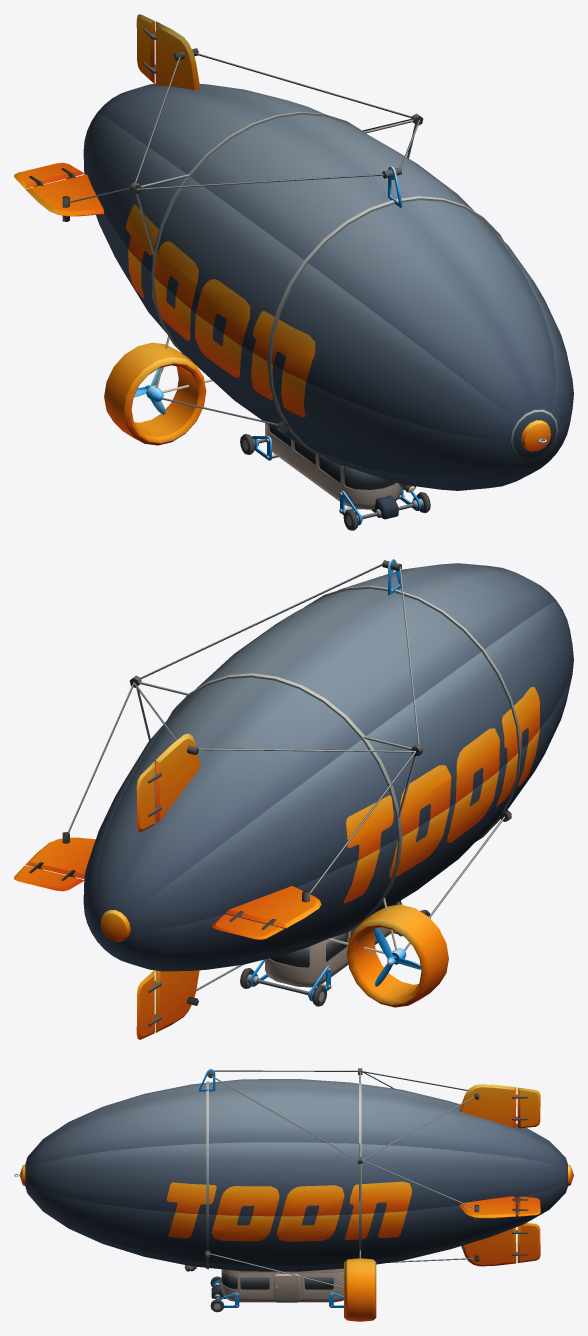
File: Blimp_1B.fbx
The picture shows the model from 3 angles, top to bottom: view 1: azimuth 30°, elevation 25°; view 2: azimuth 150°, elevation 25°; view 3: azimuth 270°, elevation 25°; orthographic projection. The views are drawn at different scales.
Parts seen in each view (by area): view 1: Blimp_1B, Livery_1B, Rudder_1B_T, Elevator_1B_R; view 2: Blimp_1B, Livery_1B, Rudder_1B_B, Rudder_1B_T, Elevator_1B_R, Elevator_1B_L, Propeller_1B_R; view 3: Blimp_1B, Livery_1B, Rudder_1B_T, Rudder_1B_B, Elevator_1B_L.
Part boxes in pixels (box(x1,y1,x2,y2)): Blimp_1B: box(25, 21, 573, 525); Livery_1B: box(126, 204, 315, 417); Rudder_1B_T: box(136, 14, 156, 83); Elevator_1B_R: box(14, 162, 84, 188); Blimp_1B: box(25, 559, 573, 1032); Livery_1B: box(343, 687, 539, 903); Rudder_1B_B: box(136, 970, 161, 1039); Rudder_1B_T: box(136, 761, 161, 832); Elevator_1B_R: box(212, 911, 283, 939); Elevator_1B_L: box(14, 862, 84, 891); Propeller_1B_R: box(374, 928, 420, 986); Blimp_1B: box(14, 1068, 573, 1321); Livery_1B: box(166, 1181, 411, 1241); Rudder_1B_T: box(512, 1087, 540, 1128); Rudder_1B_B: box(512, 1223, 540, 1262); Elevator_1B_L: box(512, 1196, 540, 1216).
Bounding box in the file's own units: 11.43 × 11.9 × 26.14.
